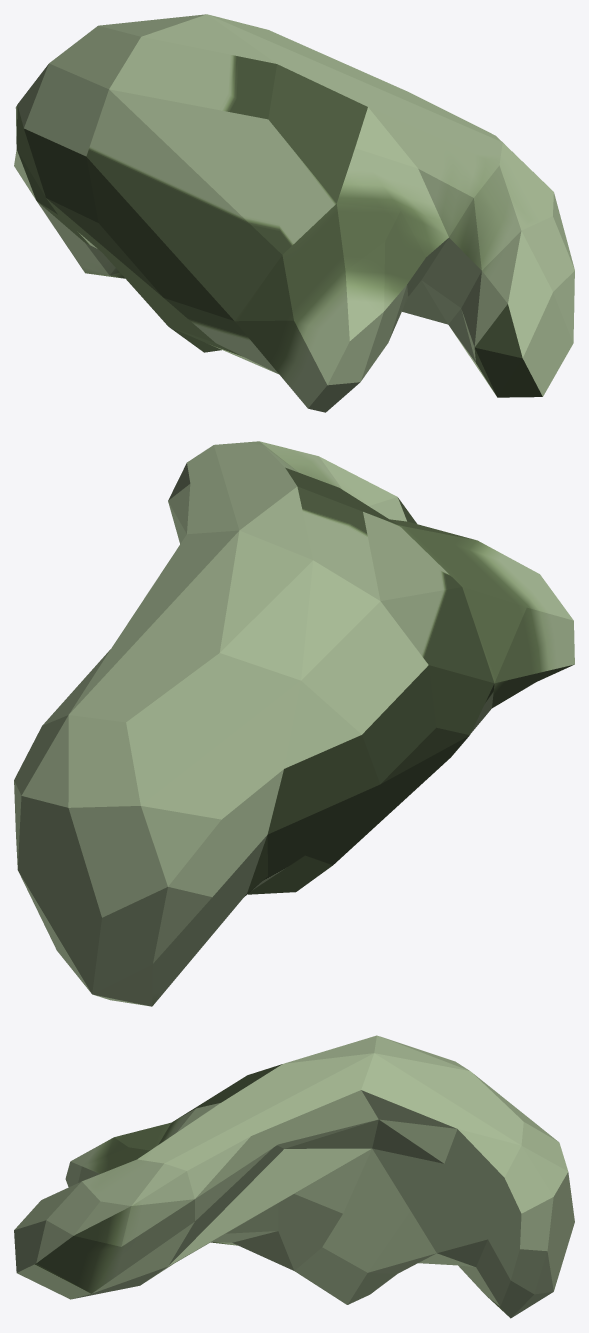
File: EA_Swamp_Moss_01f.glb
3 views of the same model, one above another, from view 1: azimuth 30°, elevation 25°; view 2: azimuth 150°, elevation 25°; view 3: azimuth 270°, elevation 25° (orthographic). The views are drawn at different scales.
Parts seen in each view (by area): view 1: EA_Swamp_Moss_01f; view 2: EA_Swamp_Moss_01f; view 3: EA_Swamp_Moss_01f.
Part boxes in pixels (x1,y1,x2,y2): EA_Swamp_Moss_01f: (14,14,574,412); EA_Swamp_Moss_01f: (14,441,574,1006); EA_Swamp_Moss_01f: (14,1035,574,1318).
Bounding box in the file's own units: 1.26 × 1.21 × 2.38.
Materials: 1 (1 with a texture image).
